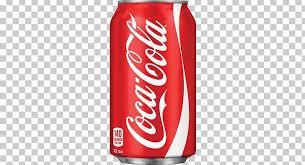can: (100, 0, 204, 164)
